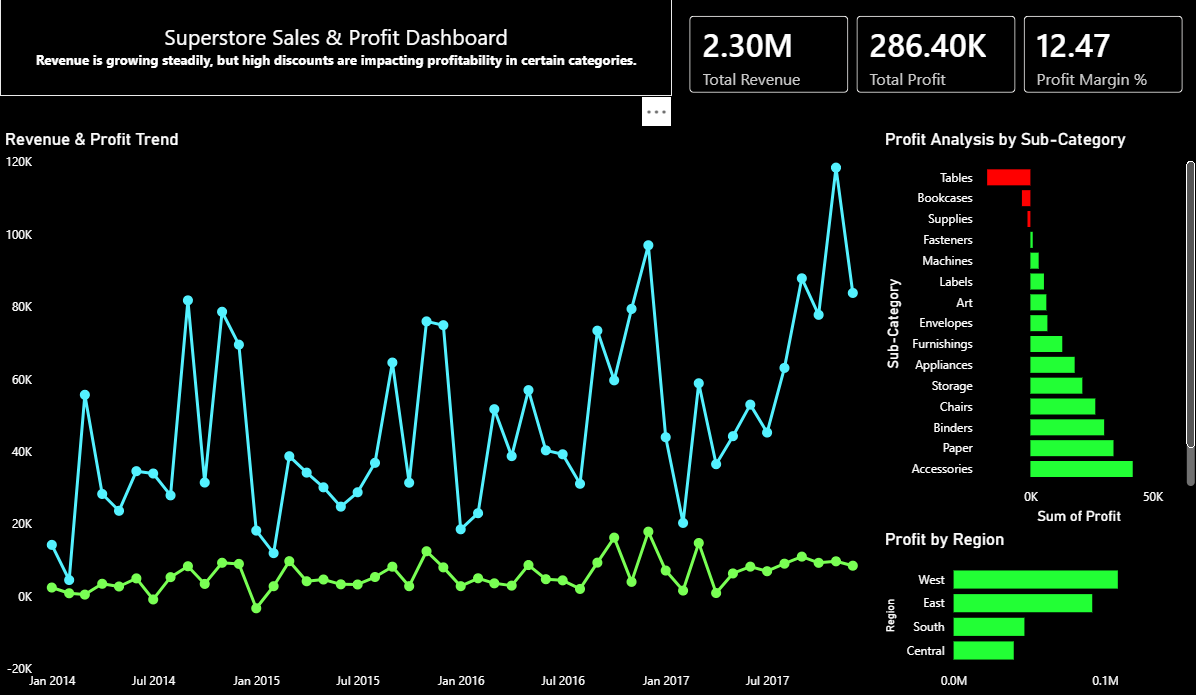

This screenshot's page, from the dashboard's own definition file:
{"tool":"powerbi","page":{"name":"Page 1","canvas":[1200,700],"ordinal":0},"visuals":[{"type":"lineChart","title":"Revenue & Profit Trend","fields":{"Y":["Sum(Sample - Superstore.Sales)","Sum(Sample - Superstore.Profit)"],"Category":["Sample - Superstore.Month_Start.Variation.Date Hierarchy.Year","Sample - Superstore.Month_Start.Variation.Date Hierarchy.Quarter","Sample - Superstore.Month_Start.Variation.Date Hierarchy.Month","Sample - Superstore.Month_Start.Variation.Date Hierarchy.Day"]},"box":[0,130,880,570],"z":0},{"type":"cardVisual","fields":{"Data":["Sum(Sample - Superstore.Sales)","Sum(Sample - Superstore.Profit)","Sample - Superstore.Profit Margin"]},"box":[672.5,0,527.5,111.2],"z":1000},{"type":"barChart","title":"Profit Analysis by Sub-Category","fields":{"Y":["Sum(Sample - Superstore.Profit)"],"Category":["Sample - Superstore.Sub-Category"]},"box":[880,130,320,400],"z":2000},{"type":"barChart","title":"Profit by Region","fields":{"Category":["Sample - Superstore.Region"],"Y":["Sum(Sample - Superstore.Profit)"]},"box":[880,530,320,170],"z":3000},{"type":"textbox","box":[0,0,672.5,97.5],"z":4000}]}

Visuals, with their boxes in screenshot pixels (x1, y1, x2, y2), scaled from the page's 1200x700 canvas onto the 1196x695 screenshot:
"Revenue & Profit Trend" lineChart: x1=0 y1=129 x2=877 y2=694
cardVisual - Sum(Sample - Superstore.Sales) x Sum(Sample - Superstore.Profit): x1=670 y1=0 x2=1195 y2=110
"Profit Analysis by Sub-Category" barChart: x1=877 y1=129 x2=1195 y2=526
"Profit by Region" barChart: x1=877 y1=526 x2=1195 y2=694
textbox: x1=0 y1=0 x2=670 y2=97
